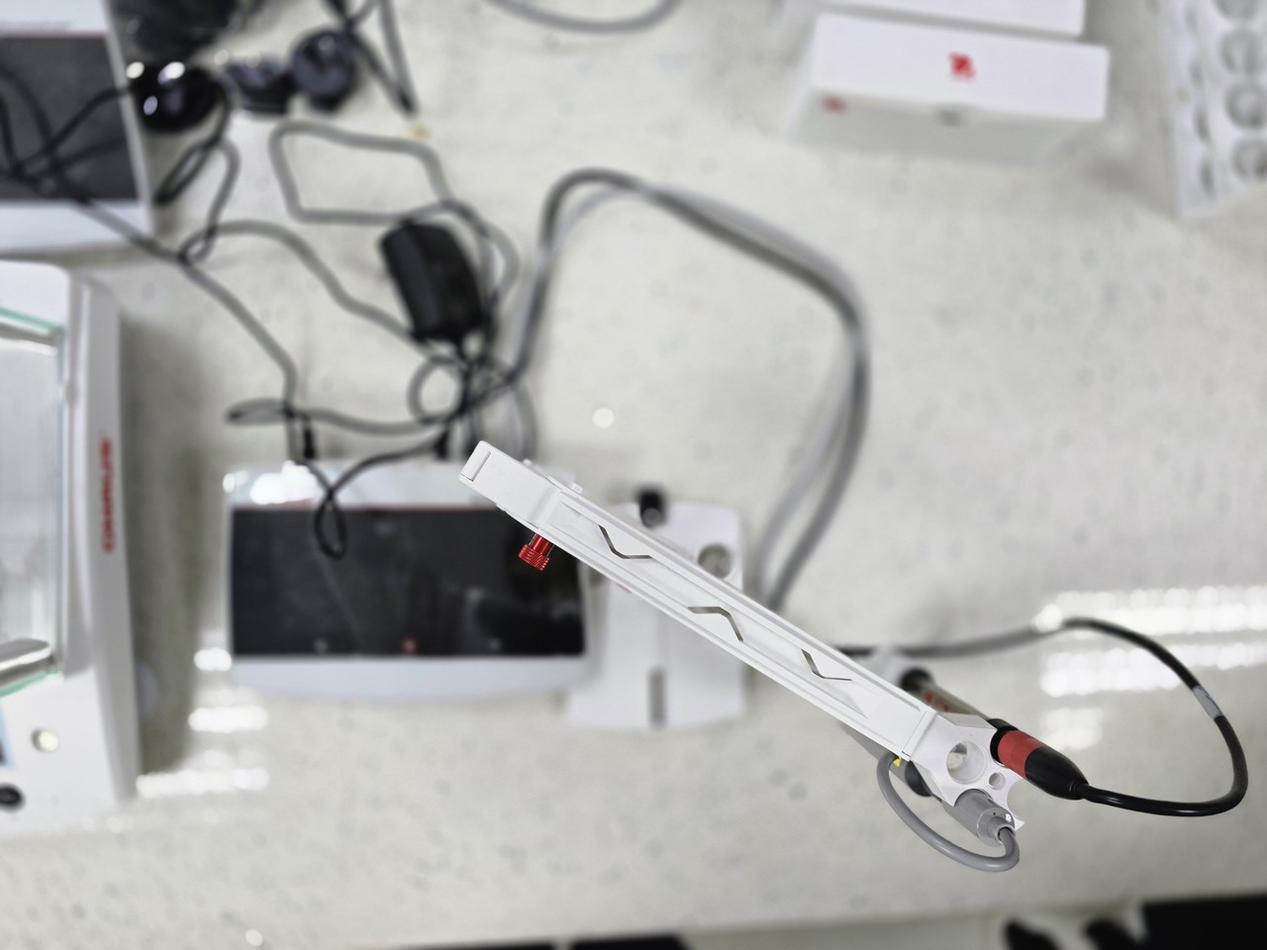aquasearcher_ab33m1: (168, 226, 1255, 896)
